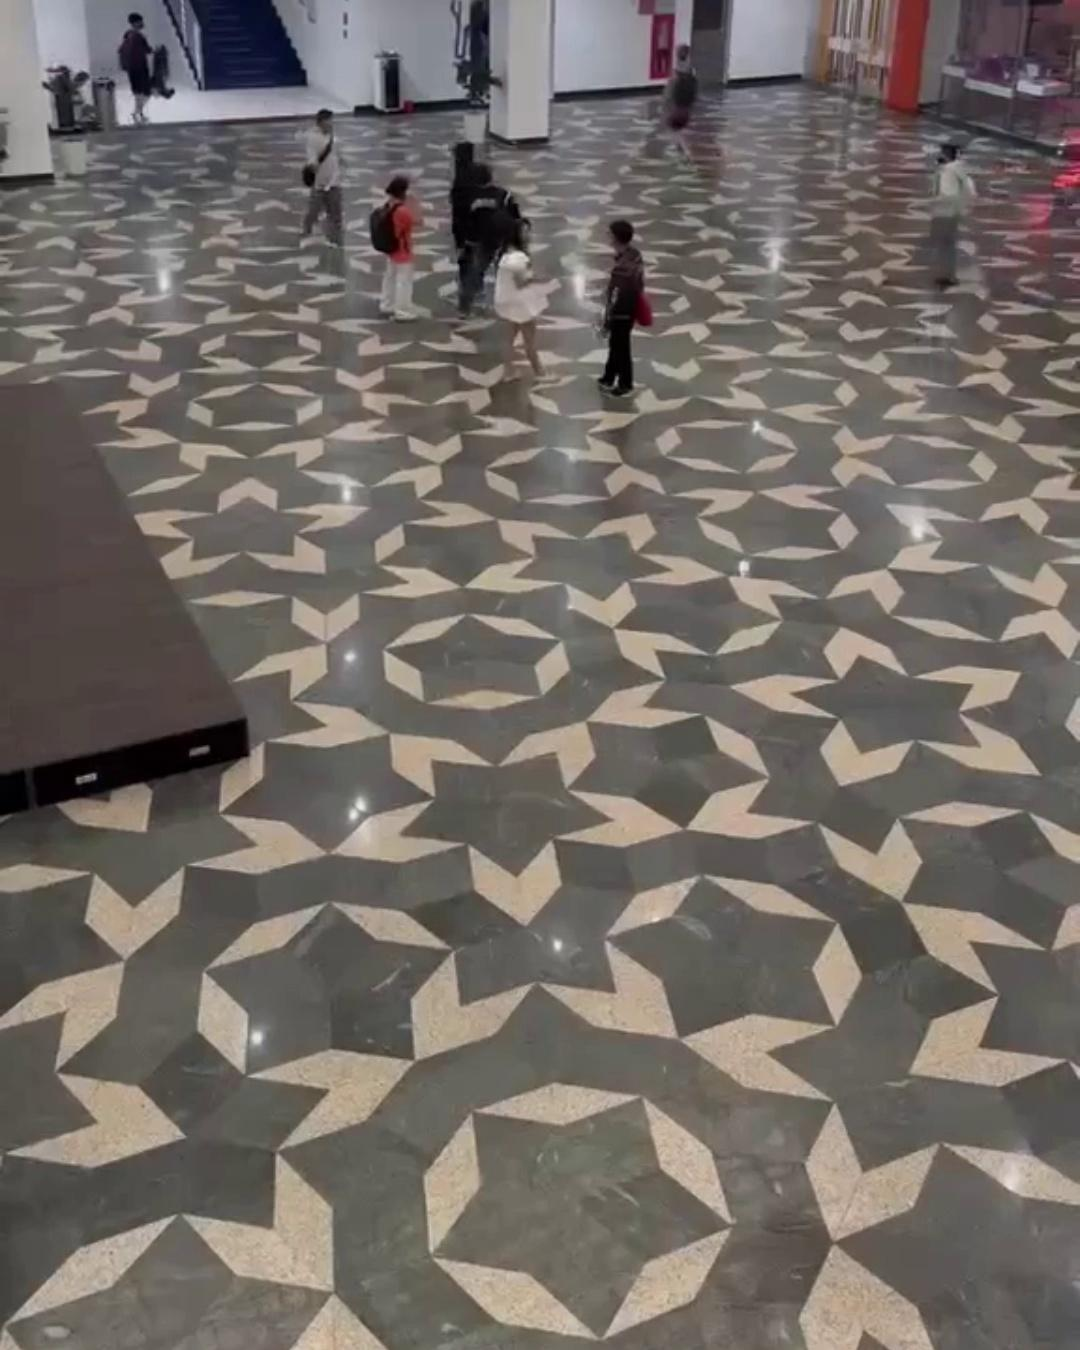your_class: (432, 126, 538, 330), (483, 198, 580, 396), (903, 106, 982, 310), (360, 165, 449, 333), (600, 198, 666, 411), (290, 88, 356, 283), (110, 3, 174, 151), (650, 23, 714, 158)
